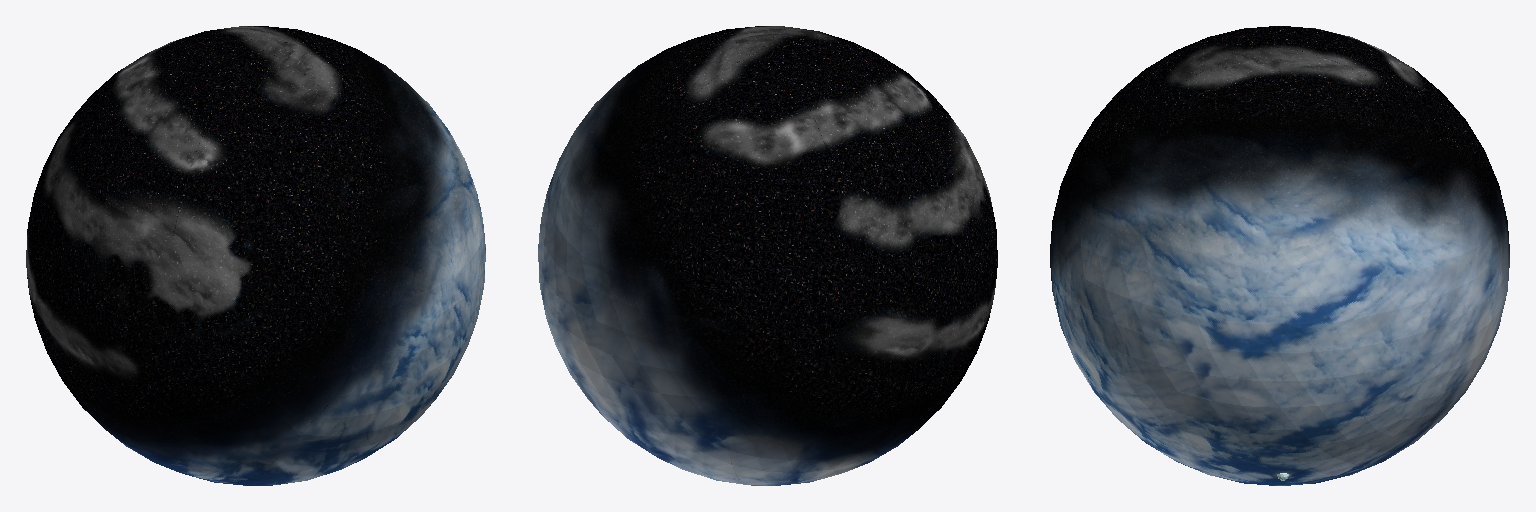
3 views of the same model, side by side, from view 1: azimuth 30°, elevation 25°; view 2: azimuth 150°, elevation 25°; view 3: azimuth 270°, elevation 25° (orthographic).
Visible parts, largest first — view 1: Icosphere; view 2: Icosphere; view 3: Icosphere.
Boxes of the visible parts, x1=… form: Icosphere: x1=26, y1=26, x2=485, y2=485; Icosphere: x1=538, y1=26, x2=997, y2=485; Icosphere: x1=1050, y1=26, x2=1509, y2=485.
Bounding box in the file's own units: 1791 × 1791 × 1791.
1 materials, 1 textured.